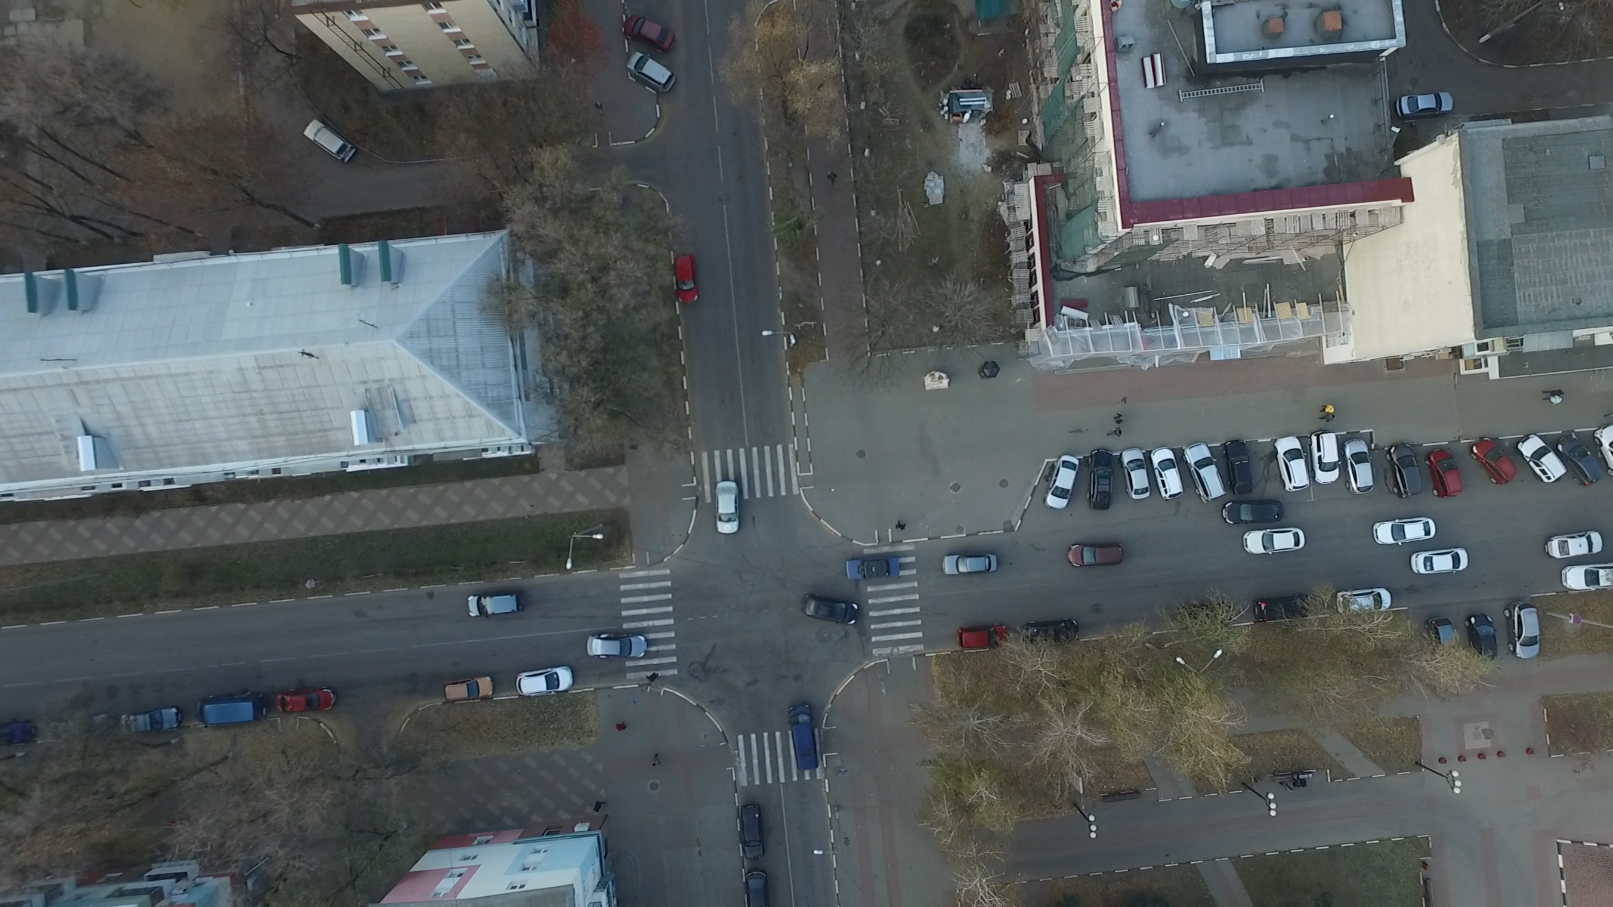car: (1182, 439, 1225, 503), (300, 116, 357, 165), (1552, 434, 1600, 489), (787, 698, 820, 773), (1506, 600, 1544, 663), (193, 692, 266, 725), (1083, 443, 1120, 508), (800, 590, 857, 631), (1042, 453, 1083, 509), (1384, 439, 1421, 499), (1516, 434, 1562, 483), (1470, 440, 1516, 489), (624, 8, 677, 50), (1425, 446, 1465, 502), (1149, 444, 1186, 502), (1272, 435, 1307, 496), (627, 50, 674, 94), (1222, 439, 1255, 497), (1222, 495, 1285, 525), (1371, 517, 1435, 546), (514, 664, 572, 695), (585, 630, 649, 658), (1311, 430, 1340, 488), (1545, 530, 1604, 559), (1411, 545, 1469, 574), (1016, 618, 1076, 646), (1121, 447, 1151, 503), (1343, 436, 1371, 493), (1398, 91, 1457, 118), (1243, 527, 1306, 553), (274, 687, 333, 713), (1465, 614, 1496, 664), (43, 712, 107, 736), (116, 709, 179, 733), (1175, 604, 1231, 631), (1336, 586, 1390, 614), (715, 482, 741, 537), (1428, 614, 1459, 660), (1250, 595, 1311, 618), (954, 622, 1007, 649), (941, 548, 998, 573), (1066, 542, 1126, 565), (468, 591, 524, 616), (739, 800, 762, 858), (1561, 561, 1612, 588), (443, 676, 495, 701), (844, 557, 900, 579), (672, 254, 696, 305), (1, 713, 35, 743), (746, 865, 770, 907)
